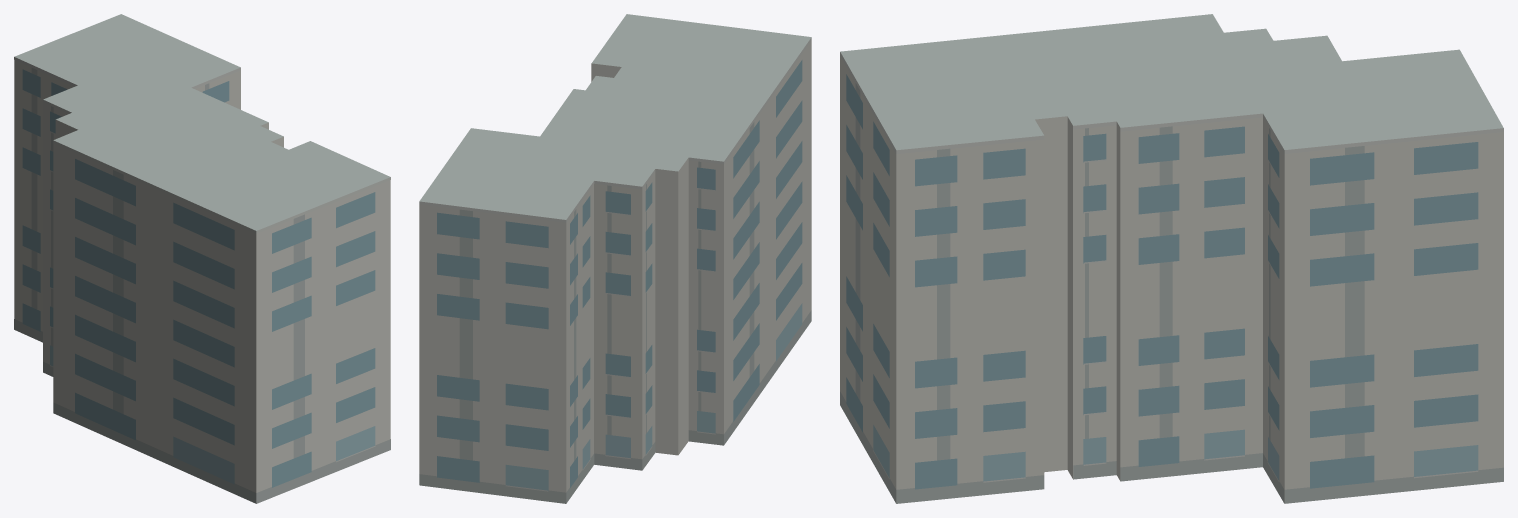
File: survey-upis-32866094.glb
The picture shows the model from 3 angles, left to right: view 1: azimuth 30°, elevation 25°; view 2: azimuth 150°, elevation 25°; view 3: azimuth 270°, elevation 25°; orthographic projection. The views are drawn at different scales.
Visible parts, largest first — view 1: survey-upis-32866094.tmp; view 2: survey-upis-32866094.tmp; view 3: survey-upis-32866094.tmp.
Part boxes in pixels (x1,y1,x2,y2): survey-upis-32866094.tmp: [14, 14, 390, 503]; survey-upis-32866094.tmp: [419, 14, 811, 503]; survey-upis-32866094.tmp: [840, 14, 1503, 503].
Bounding box in the file's own units: 19.05 × 23.04 × 39.2.
